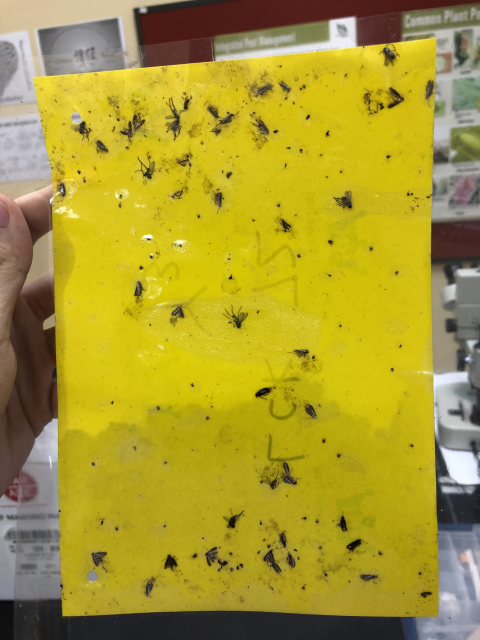DBM: (160, 551, 180, 573), (421, 76, 435, 107), (344, 536, 371, 552), (203, 544, 220, 569), (168, 301, 189, 321), (334, 509, 350, 534), (89, 549, 110, 568), (255, 79, 275, 98), (130, 112, 148, 133), (130, 277, 146, 300), (252, 385, 275, 401), (286, 345, 311, 359), (117, 121, 135, 140), (93, 136, 111, 155), (301, 402, 319, 421), (278, 474, 302, 488), (284, 550, 300, 571), (217, 111, 239, 126), (211, 189, 224, 214), (277, 79, 293, 99), (142, 579, 155, 600), (54, 180, 67, 200), (276, 530, 289, 550), (260, 548, 276, 564), (206, 103, 221, 120), (360, 570, 379, 583), (279, 460, 294, 476), (269, 560, 282, 575)
